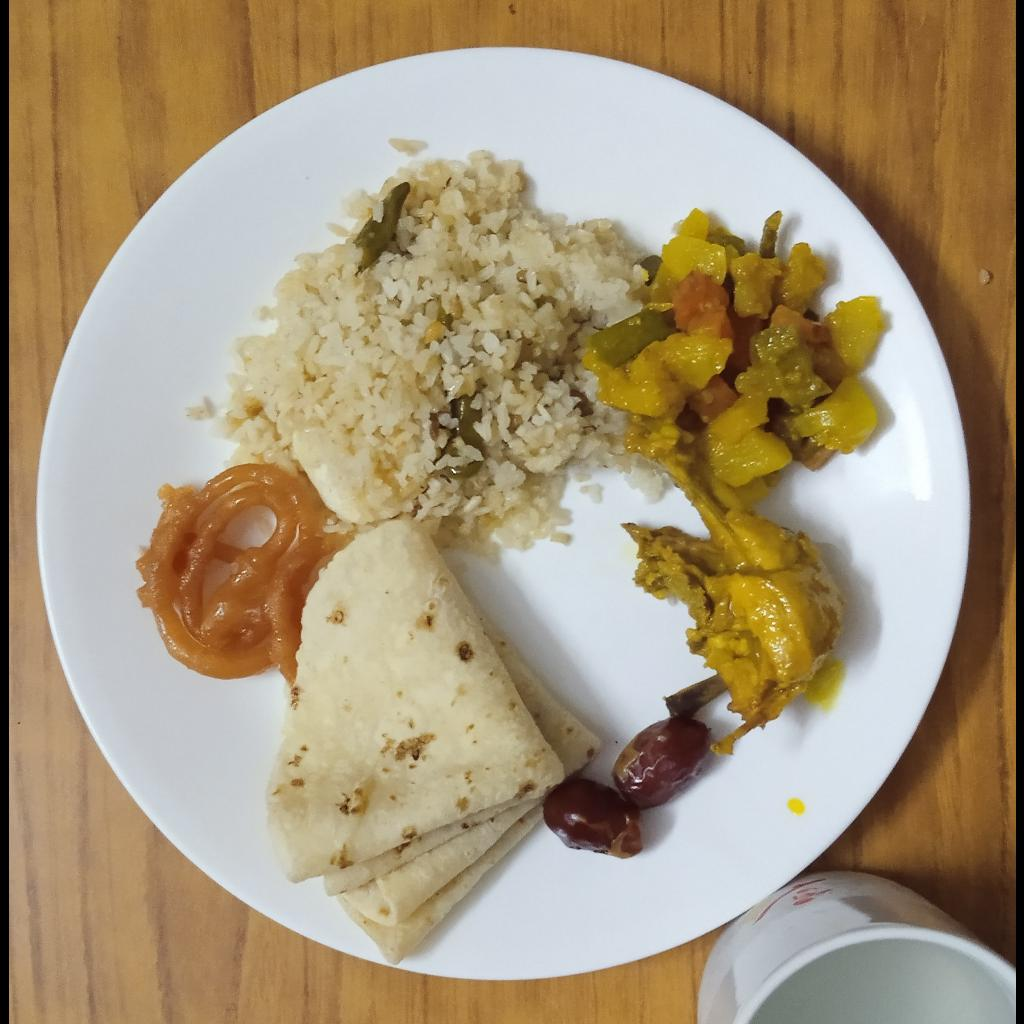chicken: (619, 419, 845, 755)
dates: (544, 717, 713, 860)
jilapi: (133, 461, 338, 683)
rice: (178, 146, 662, 566)
ruti: (271, 512, 601, 970)
vegetable: (580, 210, 881, 488)
